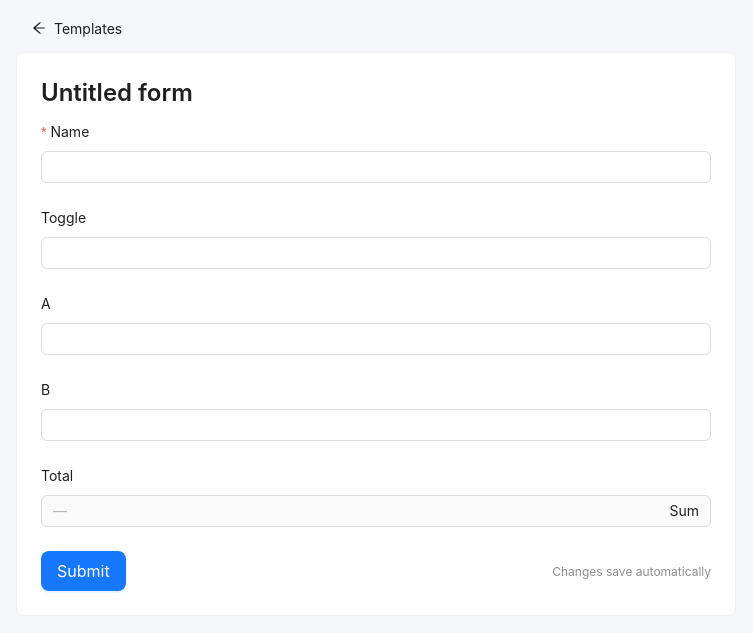
Test: FillPage › shows nothing red on first paint, then blocks submit on an empty required field
expect the text "This field is required" is not shown: met
Click the button "Submit".
click(83, 571)  # box x1=41 y1=551 x2=126 y2=591
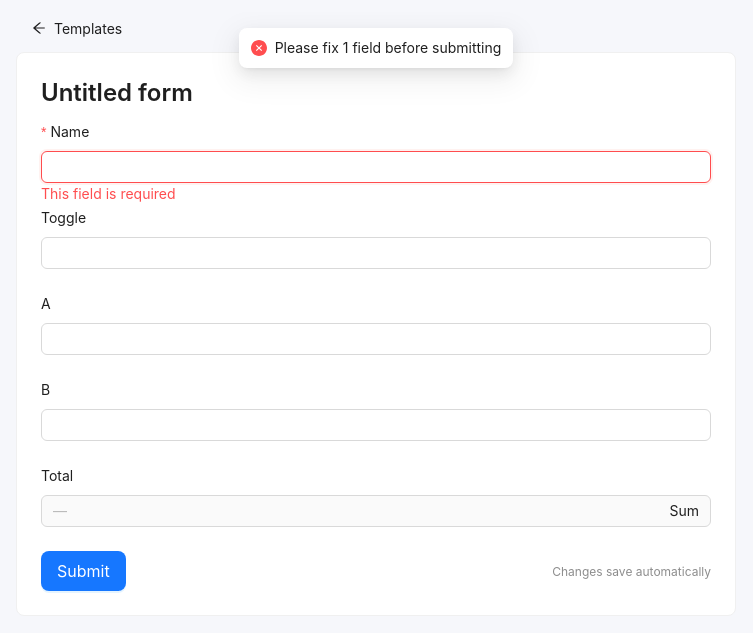
expect the text "This field is required" is shown: met, box x1=41 y1=185 x2=176 y2=202
